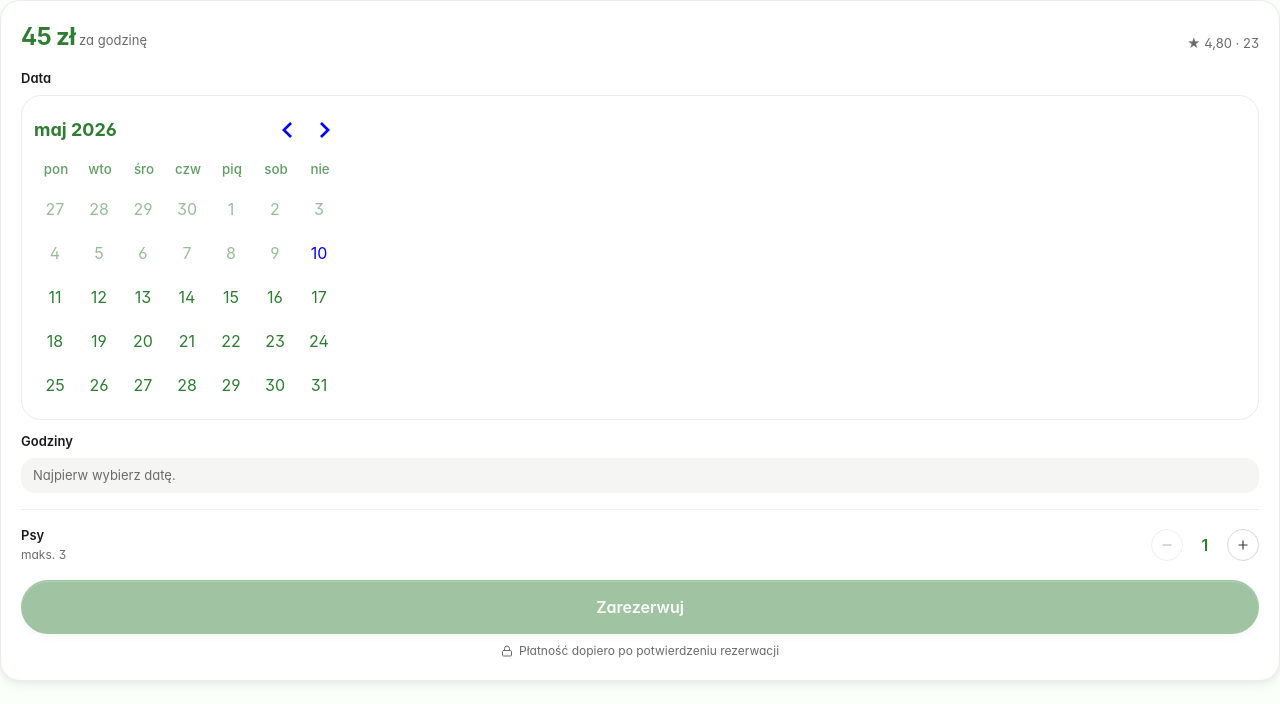
Test case: BookingWidget › disables busy slots and shows a live quote
Click the button named "15 maja" at (231, 298), box [210,276,252,318]
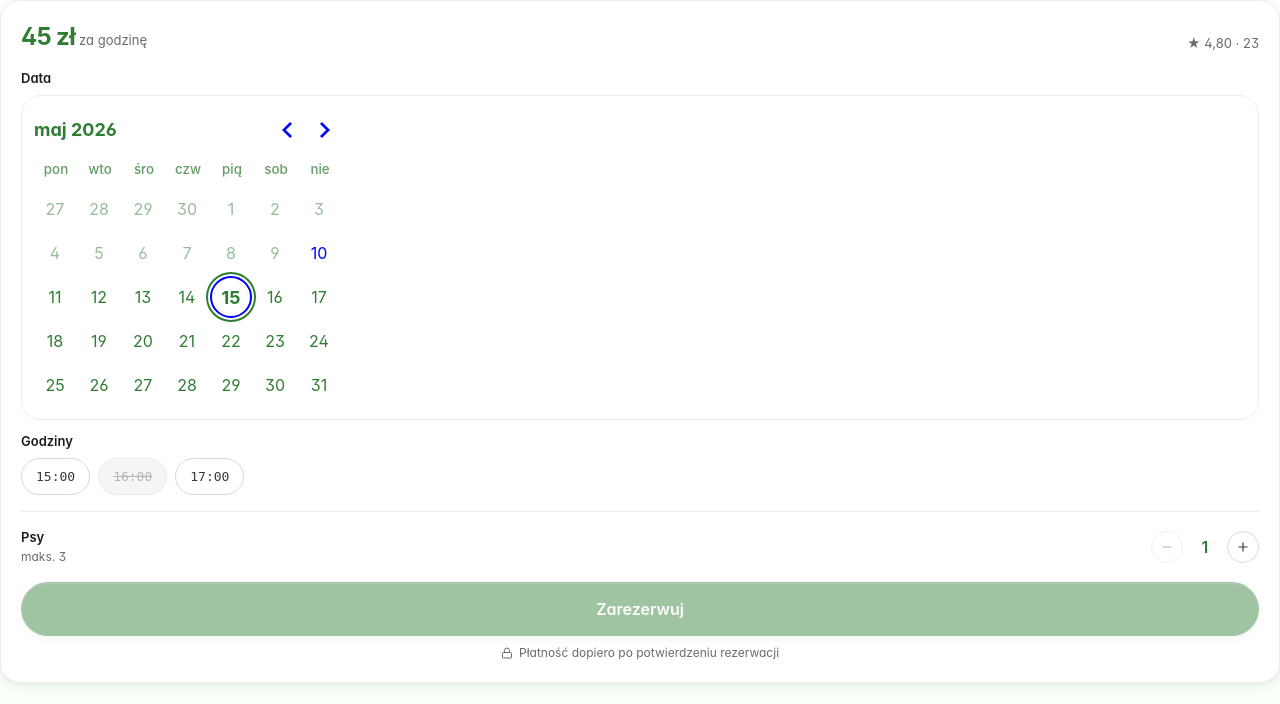
Now the button "16:00" is disabled, box [98,458,167,496]
Click the button "15:00" at (56, 477), box [21,458,90,496]
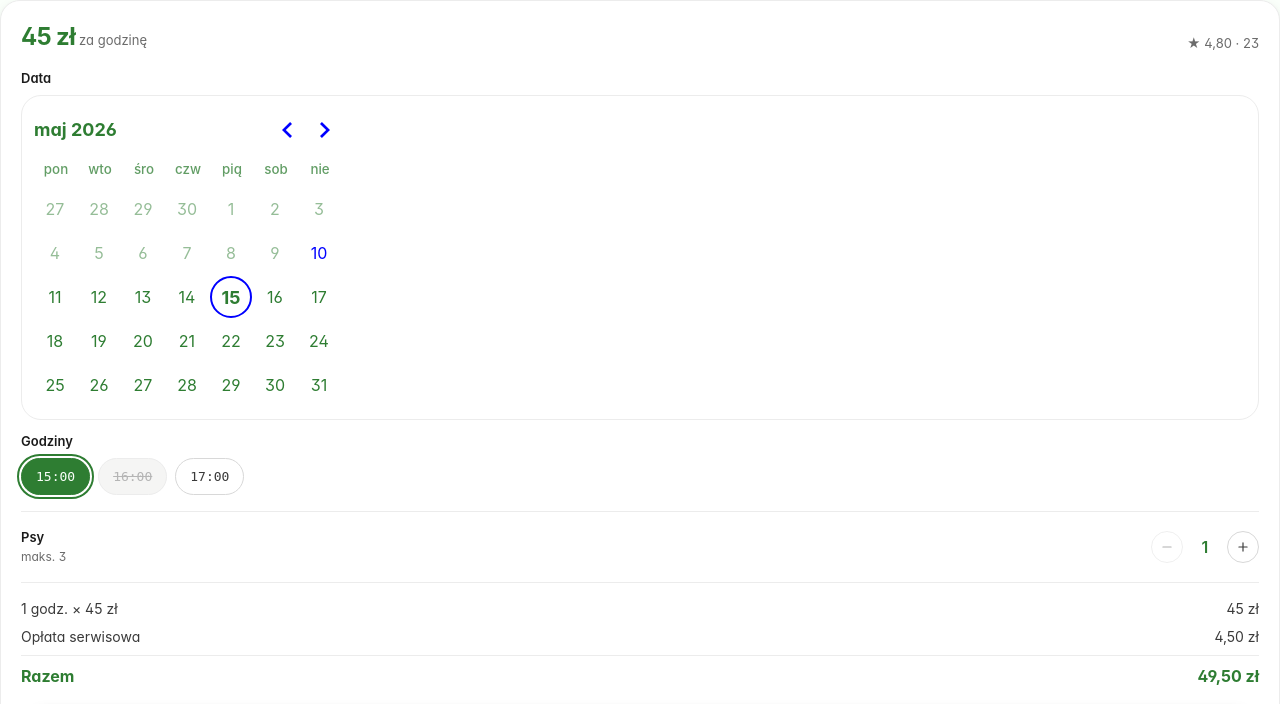
Now the text "1 godz. × 45 zł" is shown, box [21,599,118,619]
Now the text "Razem" is shown, box [21,664,74,688]
